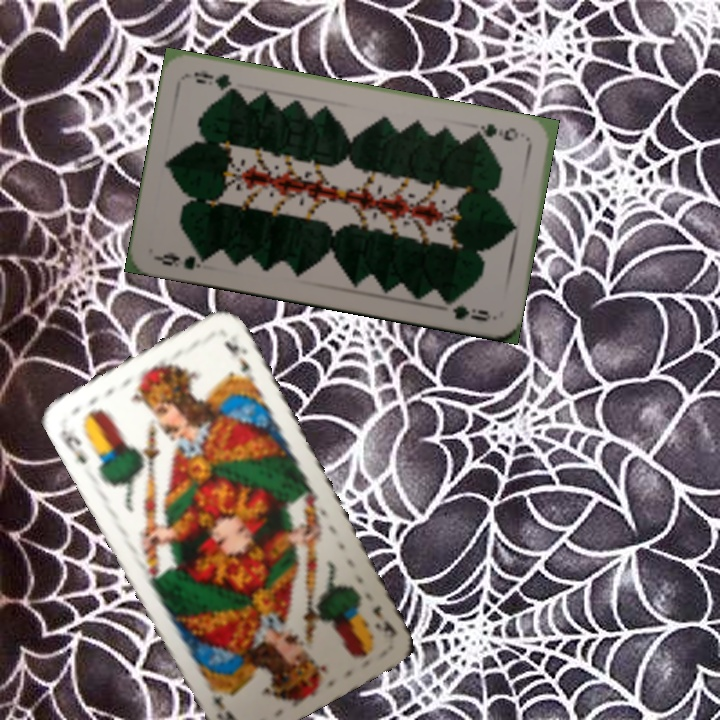EK: (56, 424, 90, 466), (368, 601, 400, 640)
G9: (152, 248, 212, 273), (470, 119, 521, 144)
